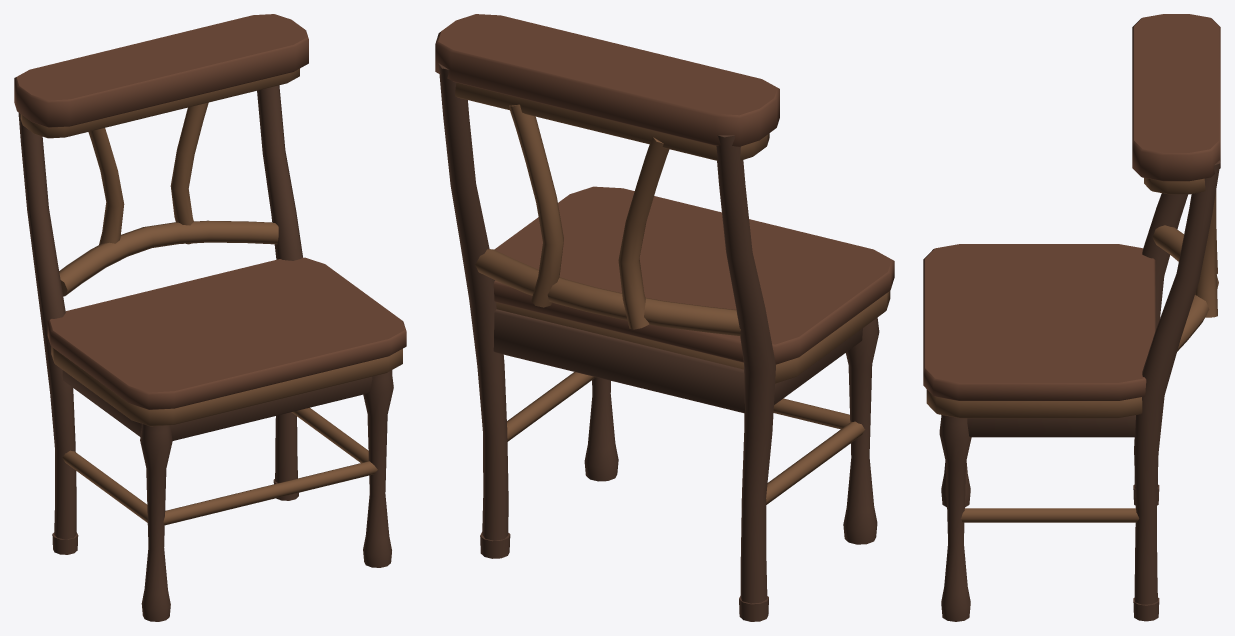
Rendered from rpg-mansion-smoking-01.glb.
3 renders of one model, left to right at view 1: azimuth 30°, elevation 25°; view 2: azimuth 150°, elevation 25°; view 3: azimuth 270°, elevation 25°, orthographic. The views are drawn at different scales.
Visible parts, largest first — view 1: rpg-mansion-smoking-01; view 2: rpg-mansion-smoking-01; view 3: rpg-mansion-smoking-01.
Boxes of the visible parts, bbox=[...] form: rpg-mansion-smoking-01: bbox=[14, 14, 406, 621]; rpg-mansion-smoking-01: bbox=[435, 14, 894, 621]; rpg-mansion-smoking-01: bbox=[923, 14, 1220, 621].
Bounding box in the file's own units: 0.563 × 0.89 × 0.504.
